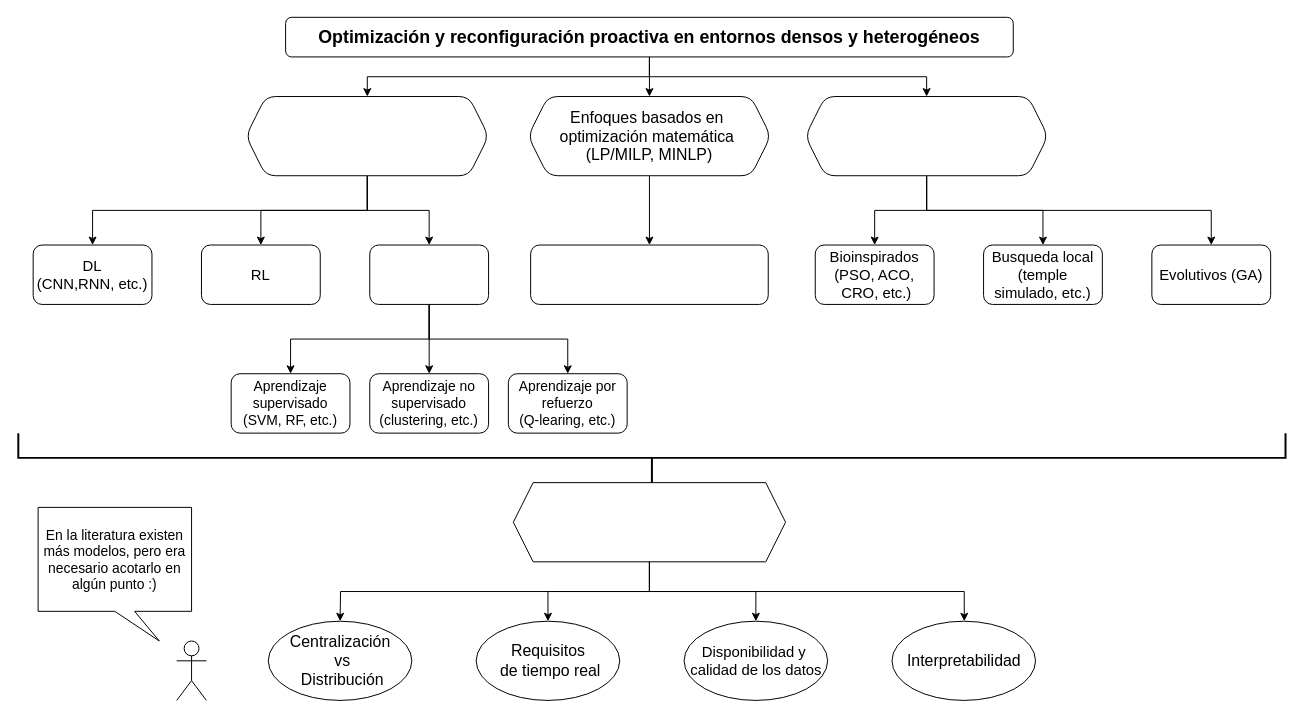
Some shapes in this 1303 by 718 pixel diagram are drawn without their labels. Here are the shapes that lost their labels. From the top down, the centre of each, then its label:
[367,136]: Enfoques basados en AI
[926,136]: Enfoques en algoritmos heurísticos y metaheurísticos
[429,274]: ML
[649,274]: Solvers (CPLEX, Gurobi) junto a técnicas de descomposición (dual-descop., ADMM)
[649,522]: La elección dependerá de una serie de criterios operativos
